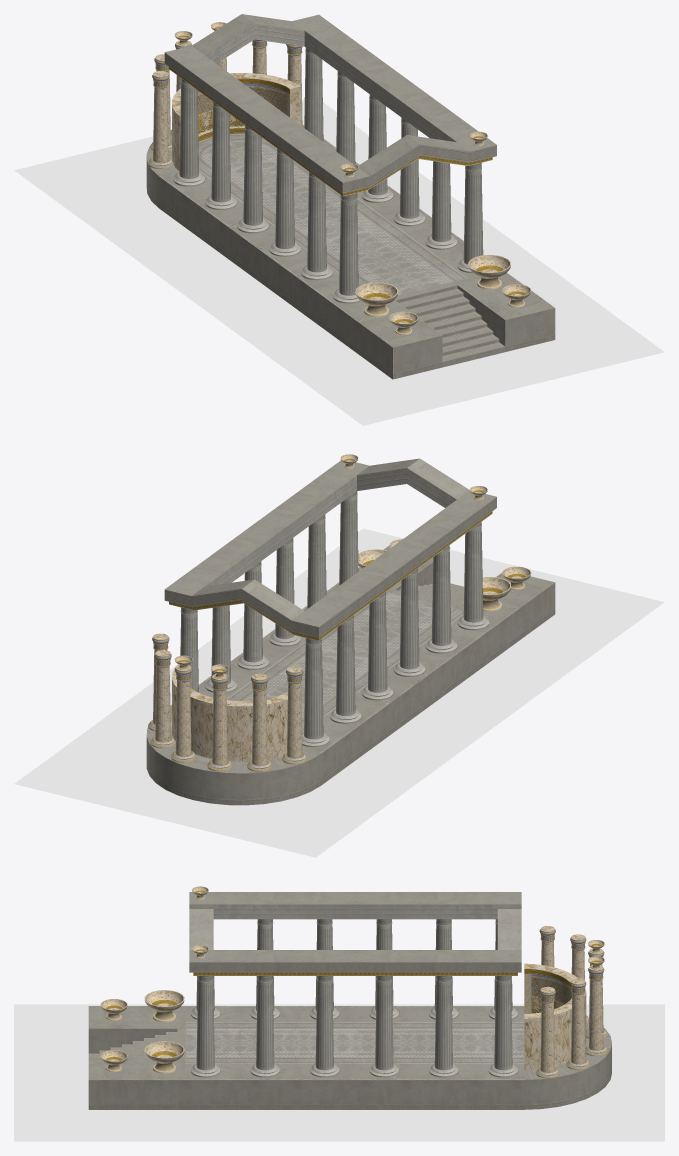
The picture shows the model from 3 angles, top to bottom: view 1: azimuth 30°, elevation 25°; view 2: azimuth 150°, elevation 25°; view 3: azimuth 270°, elevation 25°; orthographic projection. The views are drawn at different scales.
Visible parts, largest first — view 1: plane_13, base_2, column big_0, top_3, deco wall_6, column small.001_7, vessel big_10, vessel small_5, column small.002_8; view 2: plane_13, base_2, column big_0, top_3, deco wall_6, column small.002_8, column small_9, column small.001_7, vessel big_10; view 3: base_2, plane_13, top_3, column big_0, deco wall_6, column small.002_8, column small.001_7, vessel big_10, column small_9, vessel small_5.
Part boxes in pixels (left/top/right/bottom): plane_13: left=14, top=99, right=664, bottom=425; base_2: left=146, top=130, right=555, bottom=379; column big_0: left=173, top=47, right=483, bottom=303; top_3: left=164, top=14, right=496, bottom=196; deco wall_6: left=172, top=73, right=300, bottom=170; column small.001_7: left=148, top=44, right=304, bottom=168; vessel big_10: left=355, top=254, right=510, bottom=316; vessel small_5: left=389, top=284, right=531, bottom=334; column small.002_8: left=150, top=39, right=267, bottom=151; plane_13: left=14, top=528, right=664, bottom=857; base_2: left=146, top=545, right=555, bottom=805; column big_0: left=180, top=491, right=489, bottom=747; top_3: left=164, top=458, right=496, bottom=640; deco wall_6: left=172, top=664, right=287, bottom=761; column small.002_8: left=150, top=650, right=272, bottom=771; column small_9: left=171, top=665, right=232, bottom=771; column small.001_7: left=148, top=633, right=307, bottom=764; vessel big_10: left=358, top=549, right=510, bottom=611; base_2: left=88, top=1006, right=611, bottom=1109; plane_13: left=14, top=1004, right=664, bottom=1141; top_3: left=189, top=892, right=521, bottom=975; column big_0: left=191, top=919, right=518, bottom=1077; deco wall_6: left=524, top=963, right=586, bottom=1070; column small.002_8: left=566, top=934, right=590, bottom=1069; column small.001_7: left=536, top=926, right=559, bottom=1078; vessel big_10: left=144, top=990, right=184, bottom=1073; column small_9: left=585, top=948, right=607, bottom=1056; vessel small_5: left=100, top=999, right=127, bottom=1071.
Bounding box in the file's own units: 23.78 × 13.24 × 47.65.
5 materials, 4 textured.
